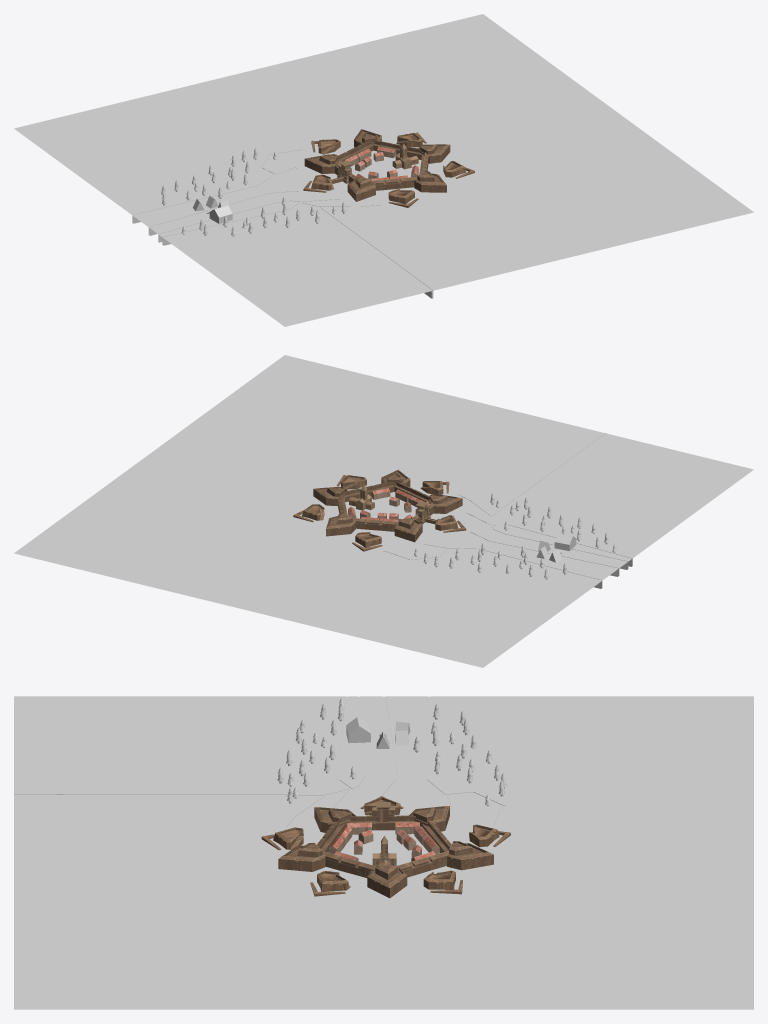
File: map_fortress.fbx
3 renders of one model, top to bottom at view 1: azimuth 30°, elevation 25°; view 2: azimuth 150°, elevation 25°; view 3: azimuth 270°, elevation 25°, orthographic. The views are drawn at different scales.
Visible parts, largest first — view 1: glacis_tranche, siege, dirt, tree, bastion, camp; view 2: glacis_tranche, siege, dirt, tree, bastion, camp; view 3: glacis_tranche, siege, dirt, tree, porte, bastion, camp.
Boxes of the visible parts, bbox=[...] form: glacis_tranche: bbox=[14, 14, 753, 326]; siege: bbox=[311, 129, 474, 207]; dirt: bbox=[15, 129, 753, 326]; tree: bbox=[161, 148, 345, 236]; bastion: bbox=[304, 154, 375, 201]; camp: bbox=[193, 195, 232, 223]; glacis_tranche: bbox=[14, 355, 753, 667]; siege: bbox=[293, 469, 449, 551]; dirt: bbox=[14, 433, 752, 667]; tree: bbox=[414, 493, 616, 579]; bastion: bbox=[394, 494, 462, 542]; camp: bbox=[536, 533, 576, 562]; glacis_tranche: bbox=[14, 696, 753, 1009]; siege: bbox=[261, 820, 510, 898]; dirt: bbox=[14, 696, 753, 1009]; tree: bbox=[277, 698, 506, 806]; porte: bbox=[346, 802, 419, 834]; bastion: bbox=[314, 806, 449, 832]; camp: bbox=[346, 717, 410, 748].
Bounding box in the file's own units: 55.99 × 3.45 × 55.99.
